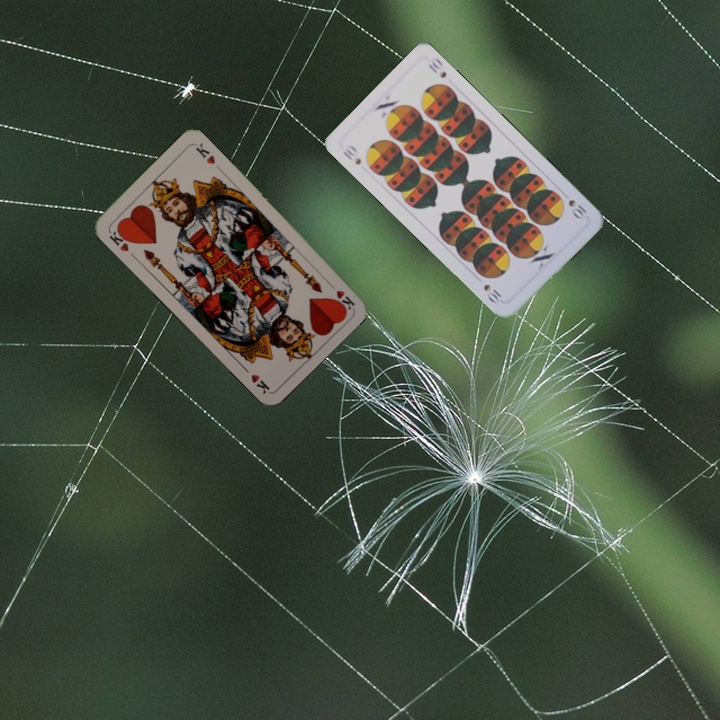HK: (323, 277, 357, 312), (105, 224, 134, 254)
S10: (564, 195, 591, 222), (339, 141, 364, 167)
